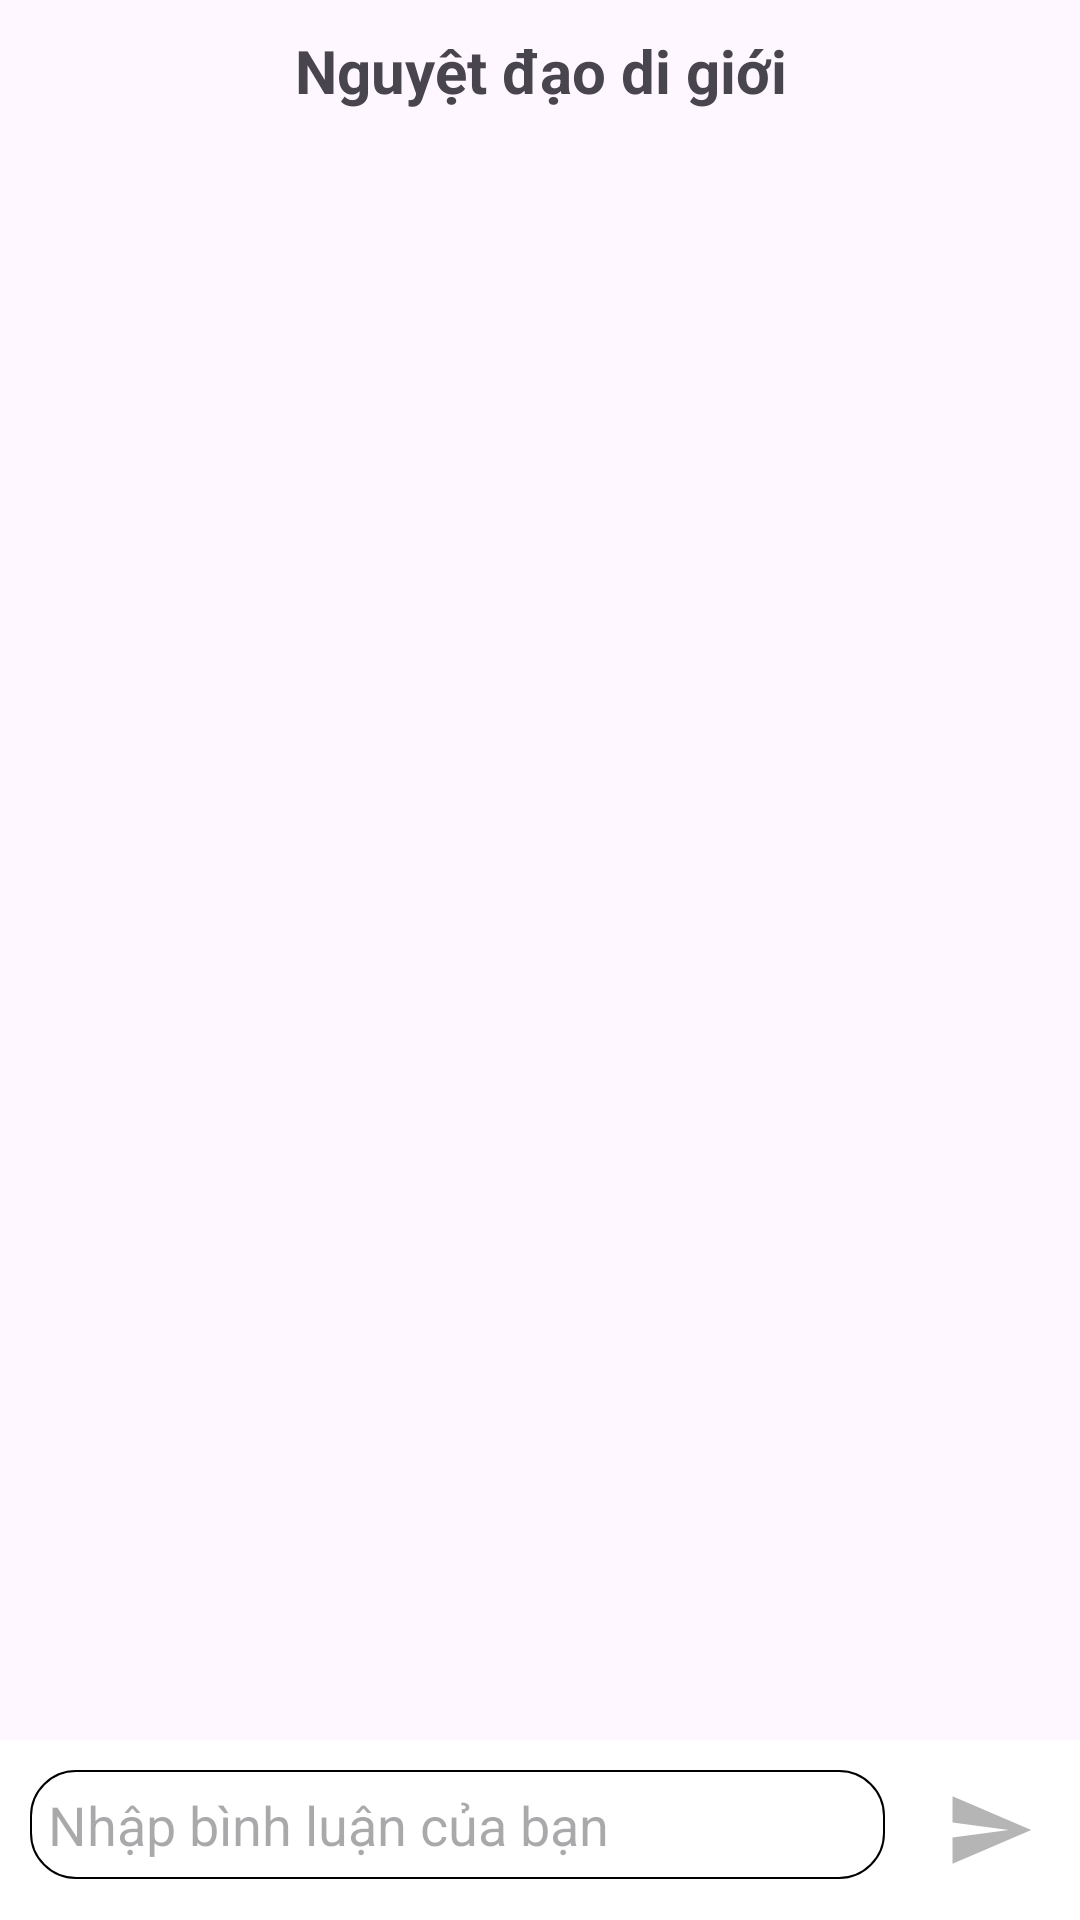

Point at icon controls on the screen. Image size 1080px x 1920px, points as (x,y).
send: (991,1829)
